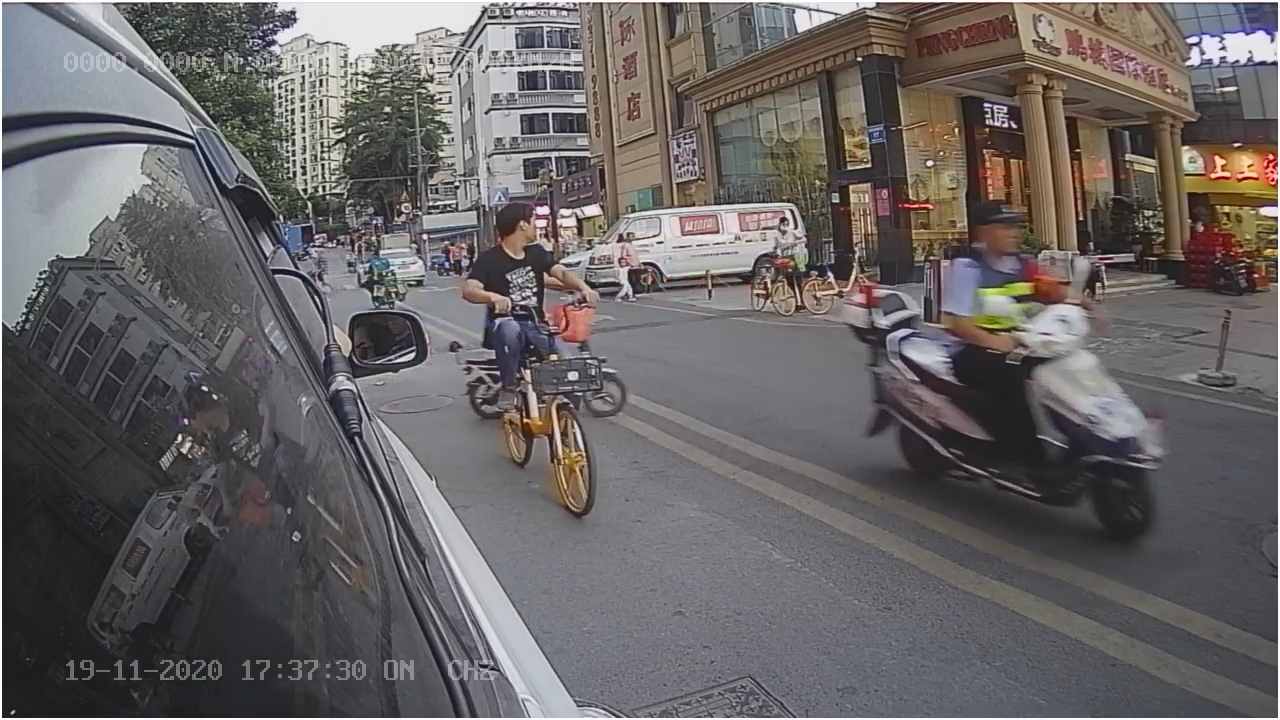person: (464, 202, 581, 312)
